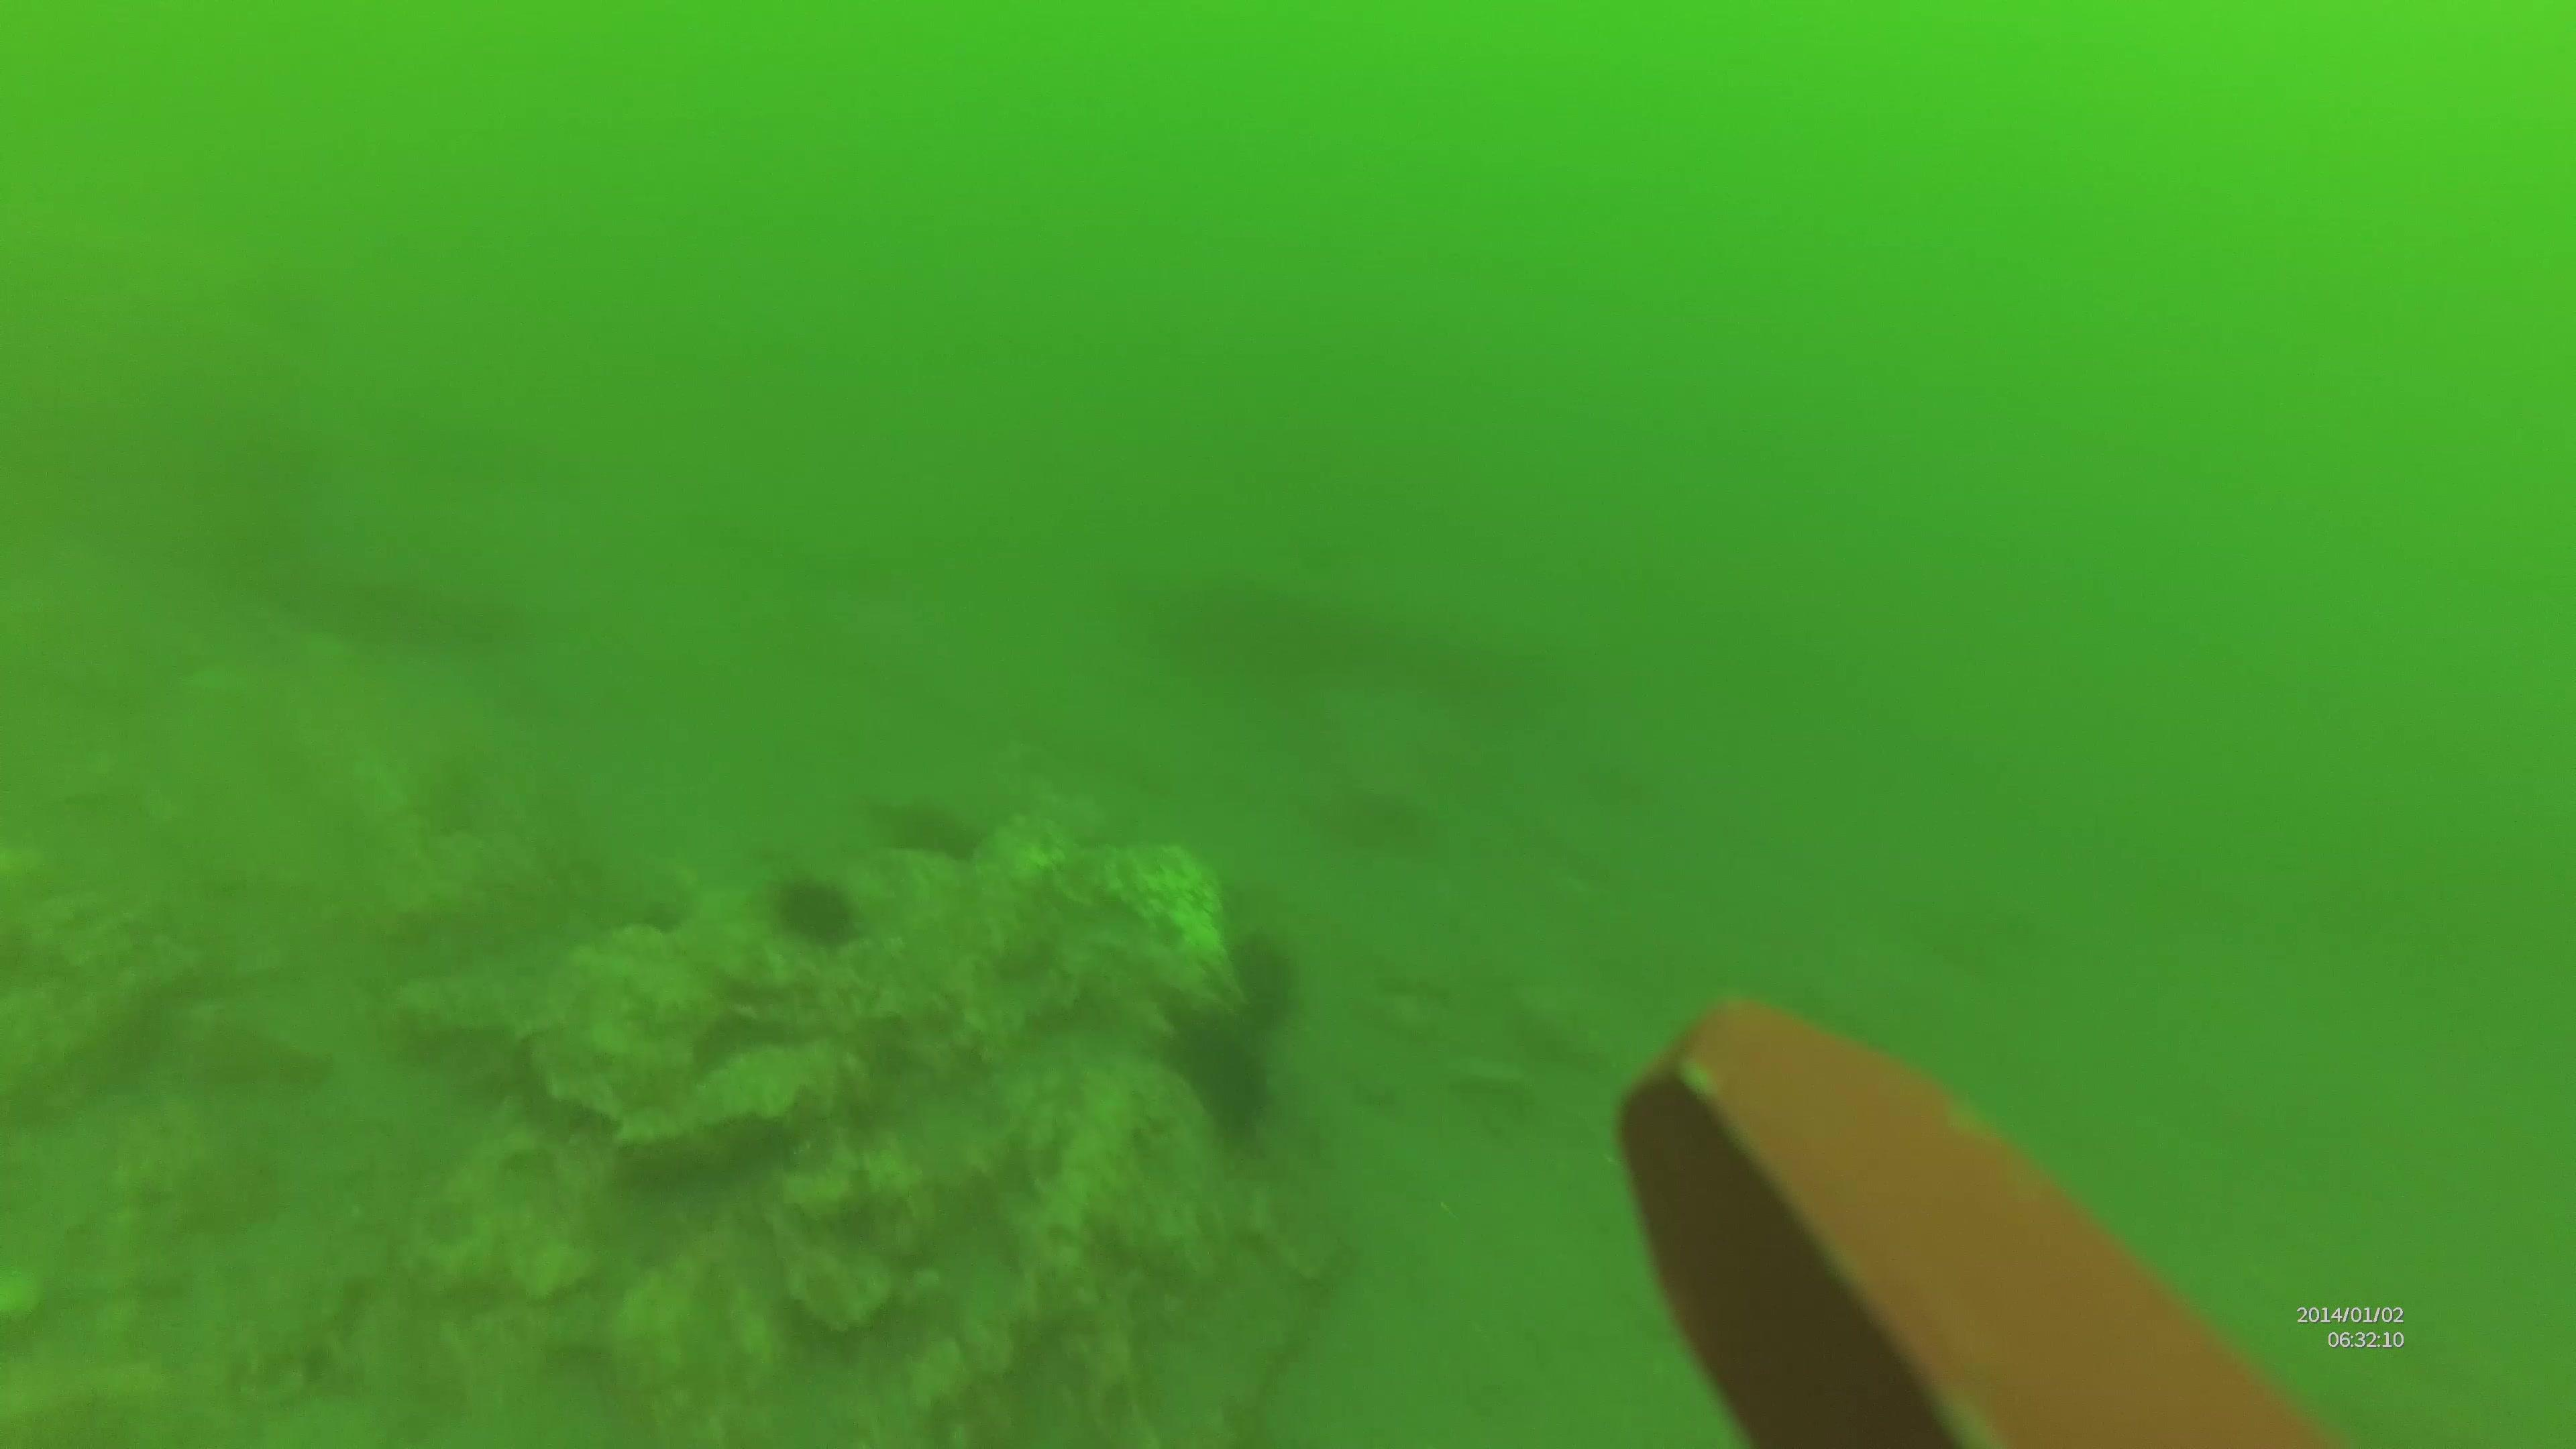echinus: (1159, 1014, 1276, 1134), (1212, 929, 1313, 1030), (766, 874, 855, 959)
